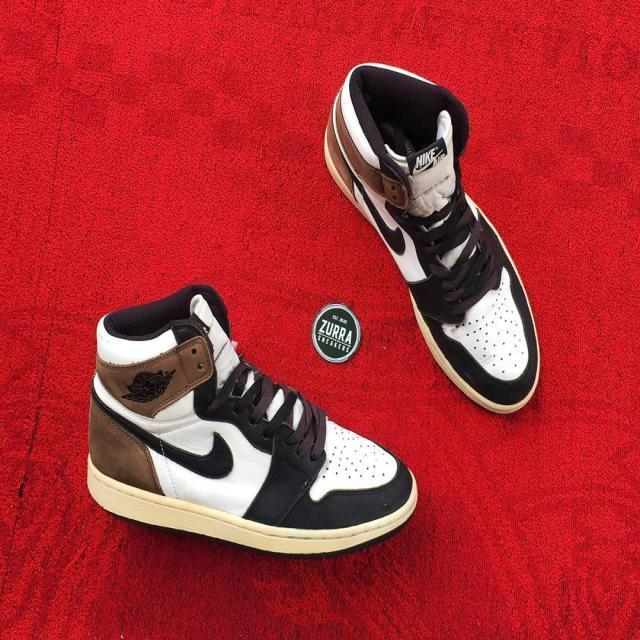nike original jordan 1: (90, 286, 423, 560), (320, 62, 542, 418)
